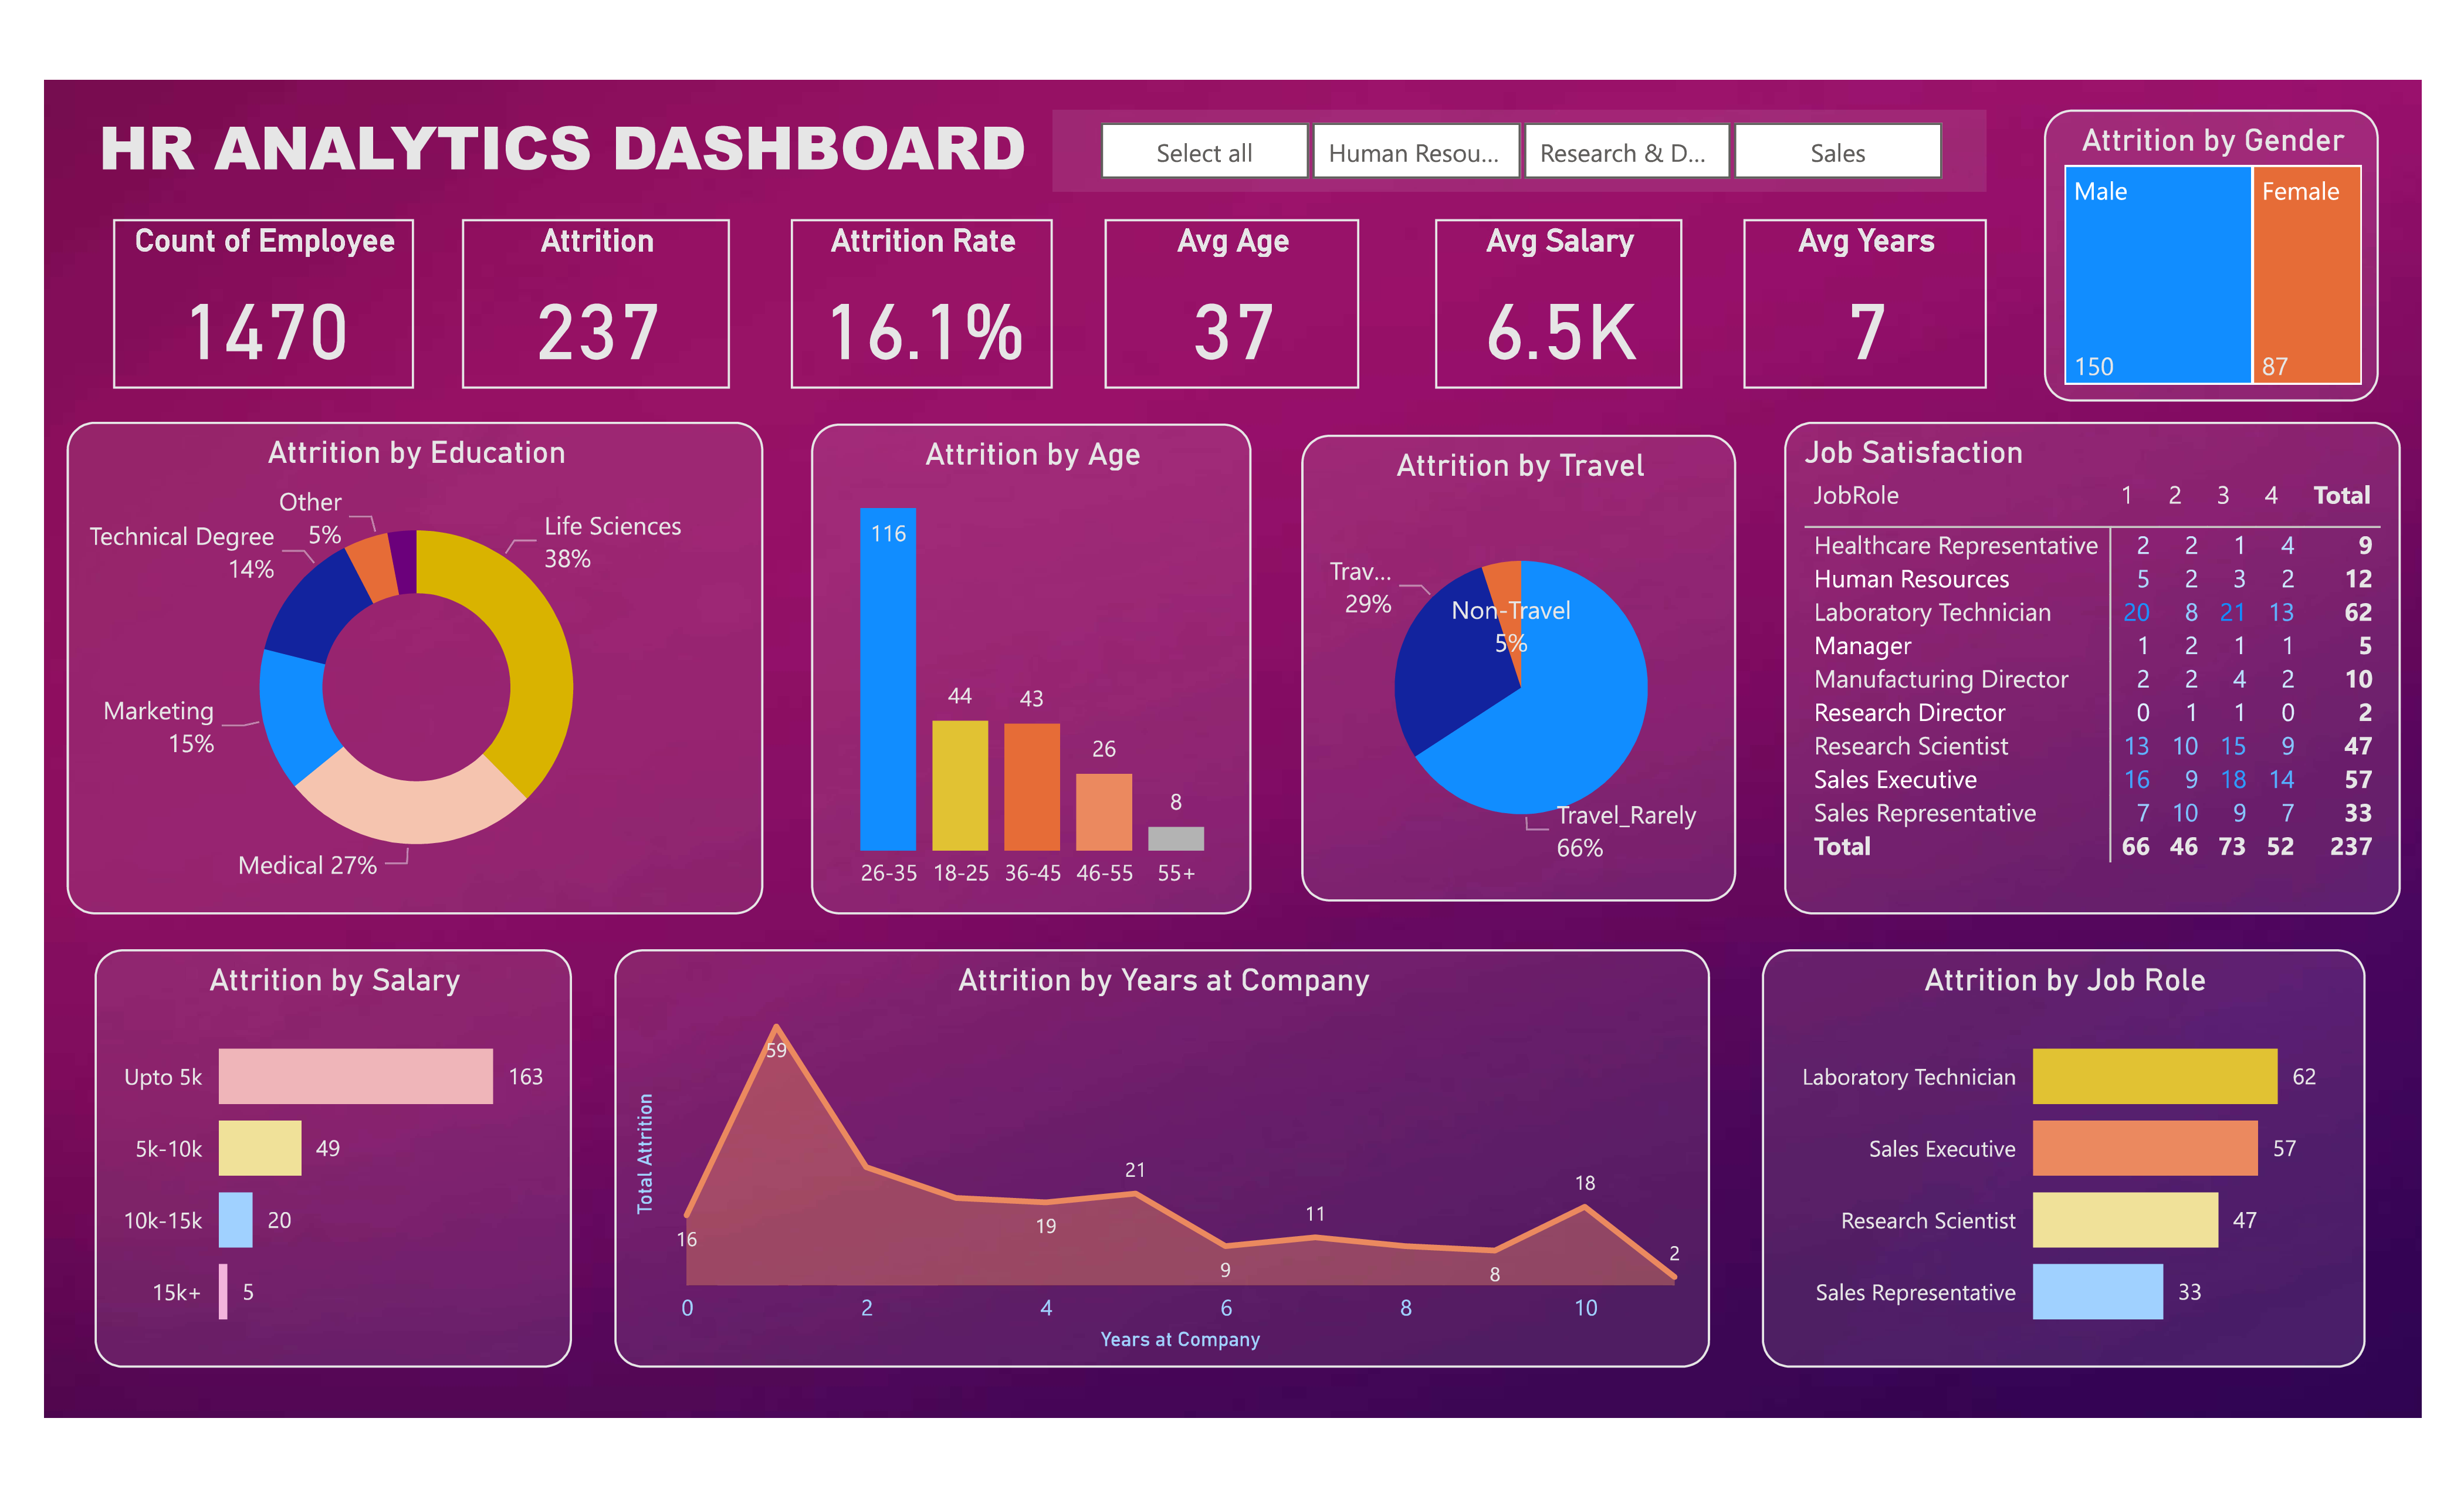

The page's visual inventory and layout, read from the dashboard file:
{"tool":"powerbi","page":{"name":"Page 1","canvas":[1280,720],"ordinal":0},"visuals":[{"type":"card","title":"Count of Employee","fields":{"Values":["CountNonNull(HR_Analytics.EmpID)"]},"box":[37,75.5,161.9,90.6],"z":0},{"type":"card","title":"Attrition","fields":{"Values":["Sum(HR_Analytics.AttritionCount)"]},"box":[225,75.5,144.1,90.6],"z":1000},{"type":"card","title":"Attrition Rate","fields":{"Values":["HR_Analytics.Attrition Rate"]},"box":[402.1,75.5,141.3,90.6],"z":2000},{"type":"card","title":"Avg Age","fields":{"Values":["Avg(HR_Analytics.Age)"]},"box":[570.8,75.5,137.2,90.6],"z":3000},{"type":"card","title":"Avg Salary","fields":{"Values":["Avg(HR_Analytics.MonthlyIncome)"]},"box":[749.2,75.5,133.1,90.6],"z":4000},{"type":"card","title":"Avg Years ","fields":{"Values":["Avg(HR_Analytics.YearsAtCompany)"]},"box":[915.3,75.5,130.4,90.6],"z":5000},{"type":"donutChart","title":"Attrition by Education","fields":{"Category":["HR_Analytics.EducationField"],"Y":["Sum(HR_Analytics.AttritionCount)"]},"box":[12.3,183.9,374.6,264.8],"z":6000},{"type":"columnChart","title":"Attrition by Age","fields":{"Category":["HR_Analytics.AgeGroup"],"Y":["Sum(HR_Analytics.AttritionCount)"]},"box":[413,185.2,237.4,263.5],"z":7000},{"type":"pivotTable","title":"Job Satisfaction","fields":{"Rows":["HR_Analytics.JobRole"],"Values":["Sum(HR_Analytics.AttritionCount)"],"Columns":["HR_Analytics.JobSatisfaction"]},"box":[937.2,183.9,332.1,264.8],"z":8000},{"type":"barChart","title":"Attrition by Salary","fields":{"Category":["HR_Analytics.SalarySlab"],"Y":["Sum(HR_Analytics.AttritionCount)"]},"box":[27.4,467.9,256.6,225],"z":9000},{"type":"barChart","title":"Attrition by Job Role","fields":{"Y":["Sum(HR_Analytics.AttritionCount)"],"Category":["HR_Analytics.JobRole"]},"box":[924.9,467.9,325.2,225],"z":10000},{"type":"areaChart","title":"Attrition by Years at Company","fields":{"Category":["HR_Analytics.YearsAtCompany"],"Y":["Sum(HR_Analytics.AttritionCount)"]},"box":[307.4,467.9,590.1,225],"z":11000},{"type":"treemap","title":"Attrition by Gender","fields":{"Group":["HR_Analytics.Gender"],"Values":["Sum(HR_Analytics.AttritionCount)"]},"box":[1077.2,16.5,179.8,156.4],"z":12000},{"type":"slicer","fields":{"Values":["HR_Analytics.Department"]},"box":[543.4,16.5,502.2,43.9],"z":13000},{"type":"textbox","box":[15.1,8.2,528.3,60.4],"z":14000},{"type":"pieChart","title":"Attrition by Travel","fields":{"Y":["Sum(HR_Analytics.AttritionCount)"],"Category":["HR_Analytics.BusinessTravel"]},"box":[676.5,190.7,234.6,251.1],"z":15000}]}

Visuals, with their boxes in screenshot pixels (x1, y1, x2, y2):
"Count of Employee" card: (77, 239, 384, 412)
"Attrition" card: (434, 239, 707, 412)
"Attrition Rate" card: (770, 239, 1038, 412)
"Avg Age" card: (1090, 239, 1351, 412)
"Avg Salary" card: (1429, 239, 1681, 412)
"Avg Years " card: (1744, 239, 1992, 412)
"Attrition by Education" donutChart: (30, 445, 741, 948)
"Attrition by Age" columnChart: (790, 448, 1241, 948)
"Job Satisfaction" pivotTable: (1786, 445, 2416, 948)
"Attrition by Salary" barChart: (59, 984, 546, 1412)
"Attrition by Job Role" barChart: (1762, 984, 2380, 1412)
"Attrition by Years at Company" areaChart: (590, 984, 1710, 1412)
"Attrition by Gender" treemap: (2052, 127, 2392, 425)
slicer - HR_Analytics.Department: (1038, 127, 1991, 211)
textbox: (35, 112, 1038, 226)
"Attrition by Travel" pieChart: (1291, 458, 1736, 935)
